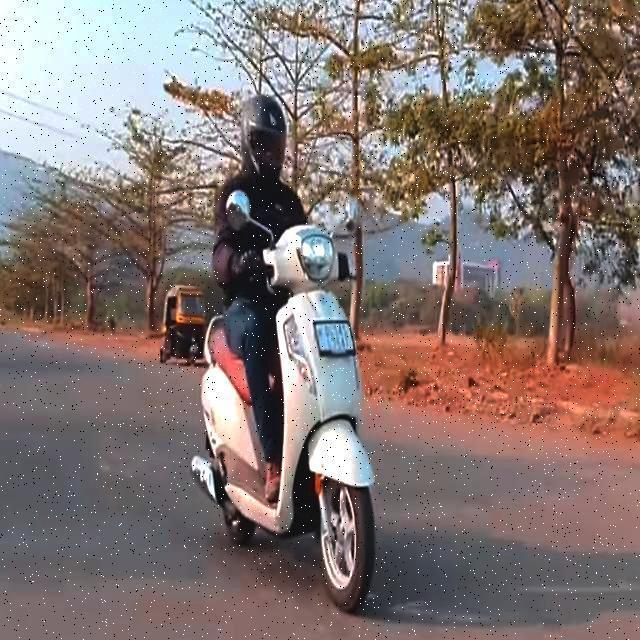Helmet: (230, 88, 302, 193)
bike: (181, 193, 396, 615)
number-plate: (312, 322, 356, 357)
rider: (209, 78, 358, 498)
